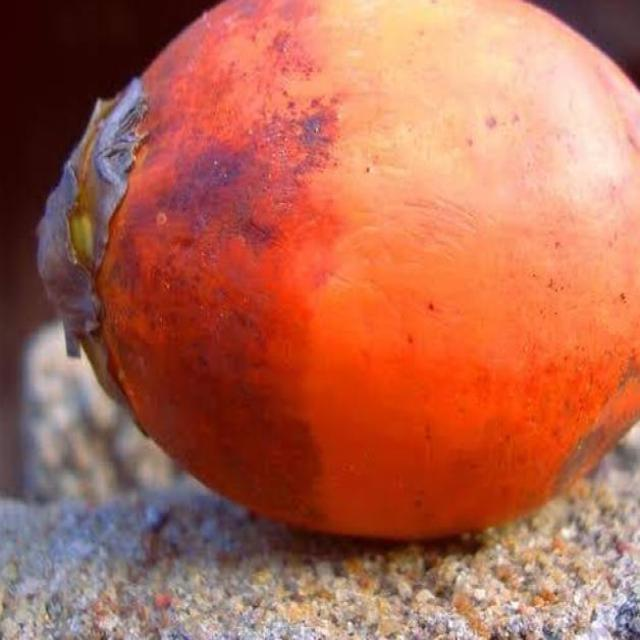good: (37, 0, 639, 546)
